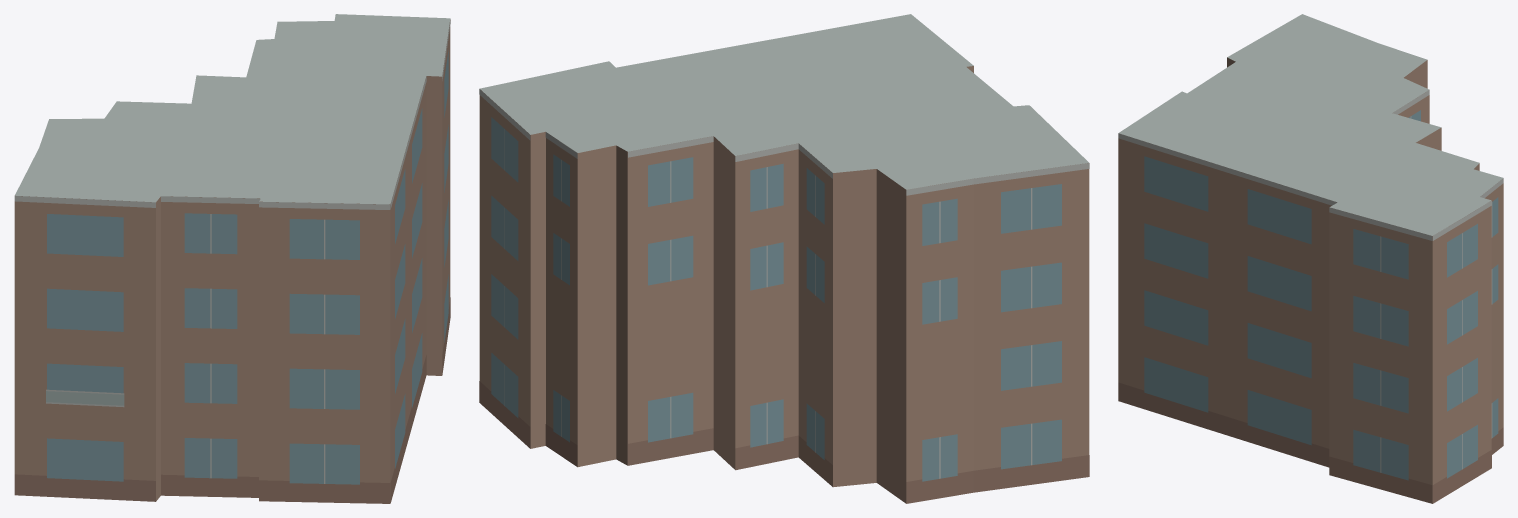
Rendered from survey-upis-32987743.glb.
3 views of the same model, side by side, from view 1: azimuth 30°, elevation 25°; view 2: azimuth 150°, elevation 25°; view 3: azimuth 270°, elevation 25° (orthographic). The views are drawn at different scales.
Parts seen in each view (by area): view 1: survey-upis-32987743.tmp; view 2: survey-upis-32987743.tmp; view 3: survey-upis-32987743.tmp.
Part boxes in pixels (x1,y1,x2,y2): survey-upis-32987743.tmp: (14, 14, 450, 503); survey-upis-32987743.tmp: (479, 14, 1089, 503); survey-upis-32987743.tmp: (1118, 14, 1503, 503).
Size of the model in its own units: 22.76 by 12.8 by 16.7.
